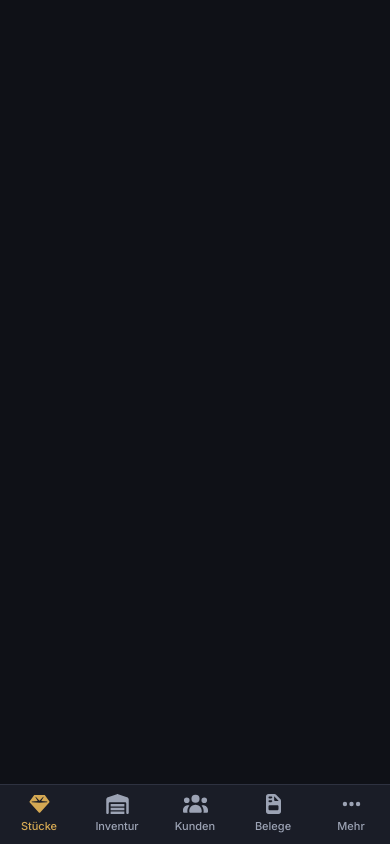
Test: MobileTabBar › Sichtbarkeit je Rolle › Bearbeiter sieht fünf Tabs, aber keine Administration
Check: the link "Stücke" is shown, box [21,794,57,833]
Check: the link "Inventur" is shown, box [95,794,139,833]
Click the button "Mehr" at (351, 814), box [312,785,389,843]
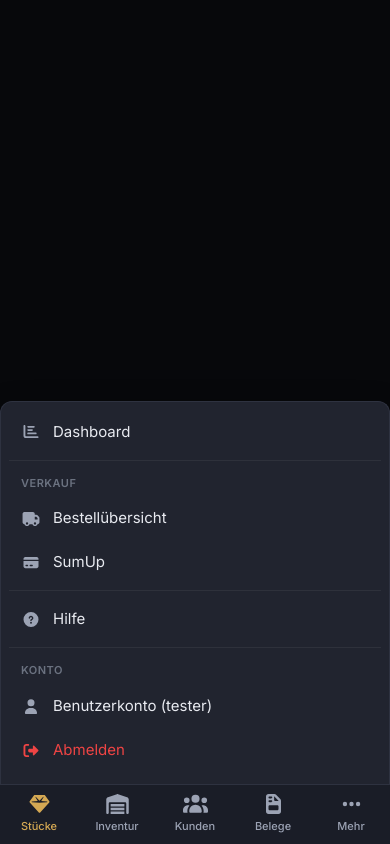
Check: the link "Dashboard" is shown, box [21,422,130,441]
Check: the link "Bestellübersicht" is shown, box [21,508,167,527]
Check: the link "SumUp" is shown, box [21,552,105,571]
